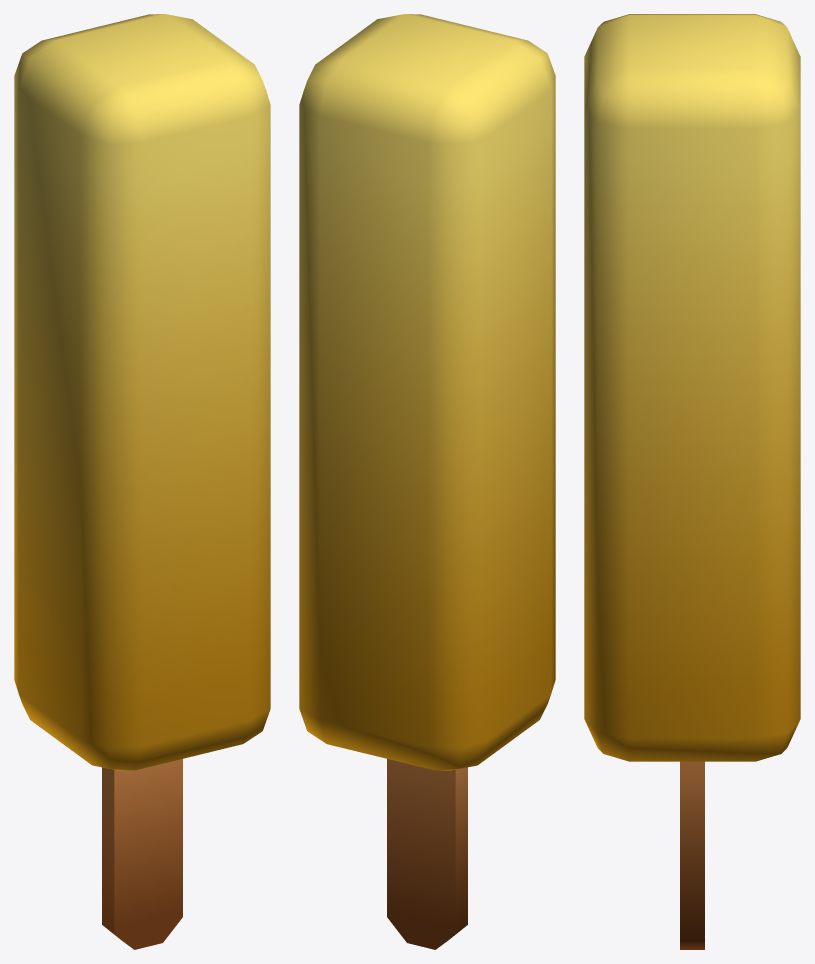
The model's file is m_SquarePopsicle08.fbx.
3 views of the same model, side by side, from view 1: azimuth 30°, elevation 25°; view 2: azimuth 150°, elevation 25°; view 3: azimuth 270°, elevation 25° (orthographic).
Visible parts, largest first — view 1: m_SquarePopsicle08; view 2: m_SquarePopsicle08; view 3: m_SquarePopsicle08.
Boxes of the visible parts, x1,y1,x2,y2 form: m_SquarePopsicle08: (14,14,270,949); m_SquarePopsicle08: (299,14,555,949); m_SquarePopsicle08: (584,14,800,949).
Bounding box in the file's own units: 5 × 23.01 × 5.
